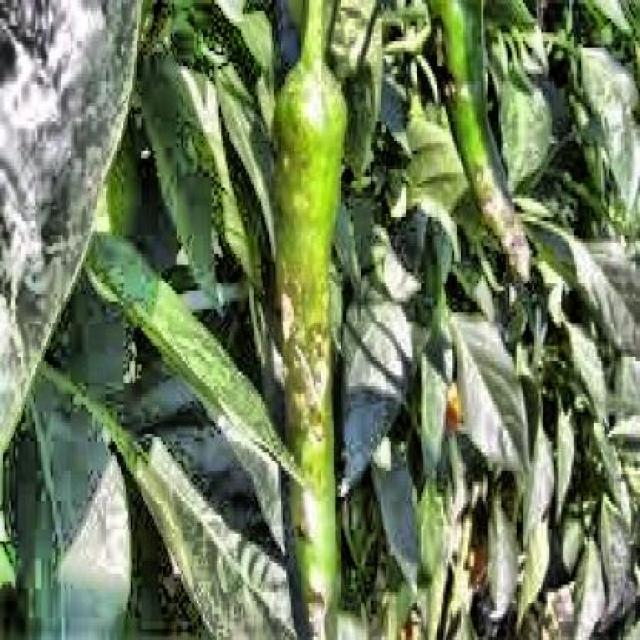Moko: (239, 243, 361, 522), (115, 255, 259, 442), (467, 134, 547, 314), (420, 354, 488, 468), (428, 25, 482, 145)
